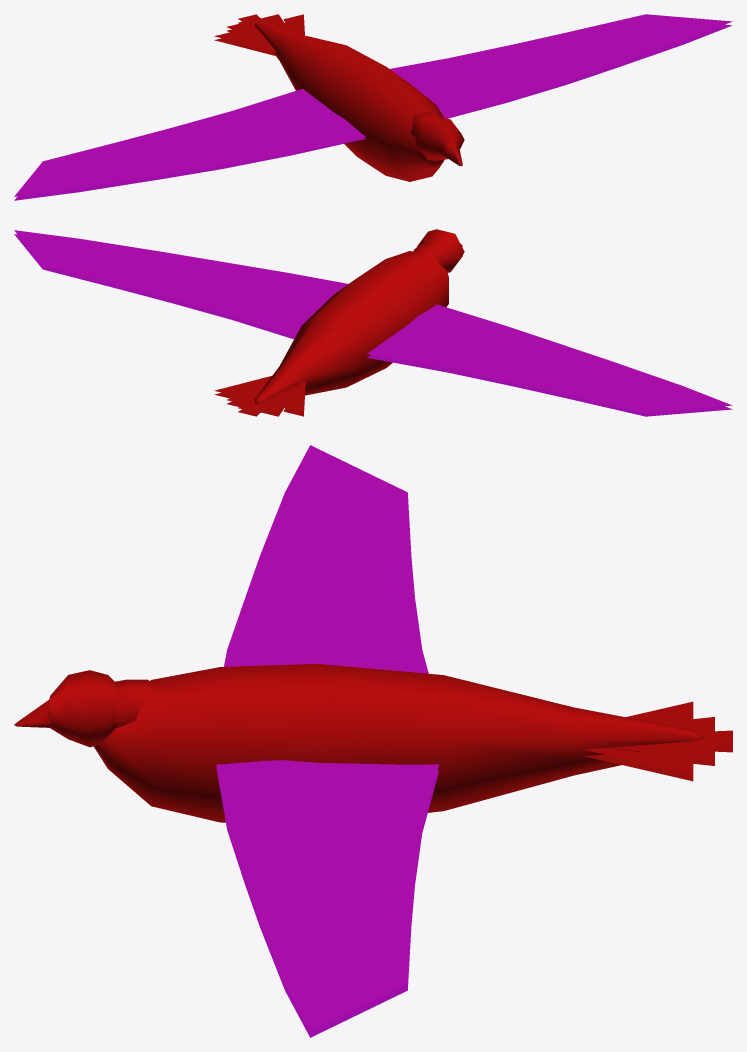
The model's file is snowgoose.glb.
3 views of the same model, one above another, from view 1: azimuth 30°, elevation 25°; view 2: azimuth 150°, elevation 25°; view 3: azimuth 270°, elevation 25° (orthographic). The views are drawn at different scales.
Visible parts, largest first — view 1: bird; view 2: bird; view 3: bird.
Boxes of the visible parts, x1,y1,x2,y2 form: bird: [14, 14, 732, 200]; bird: [14, 229, 732, 416]; bird: [14, 445, 732, 1037].
Bounding box in the file's own units: 1.5 × 0.1641 × 0.7773.
